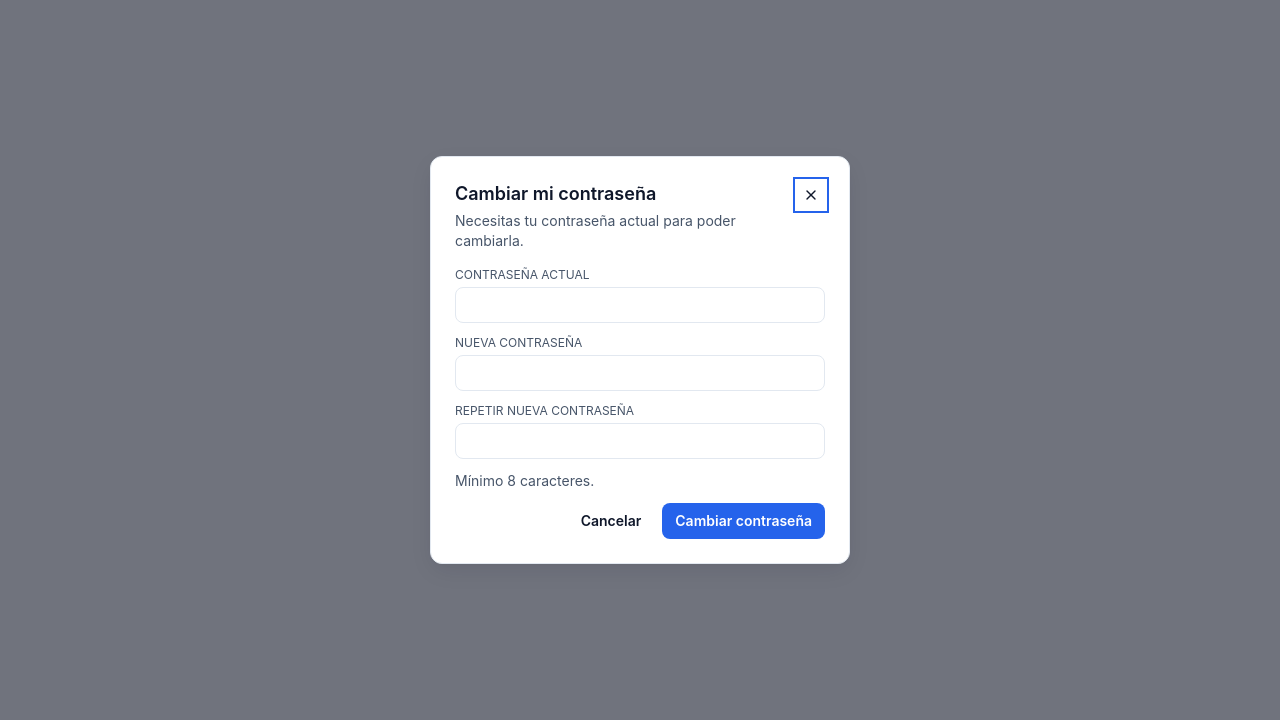
seguridad · validación de la contraseña nueva › la longitud se comprueba ANTES que la coincidencia
In the password field labelled "Contraseña actual": {"x": 640, "y": 305} [455,287,825,323], type "clave-actual-1"
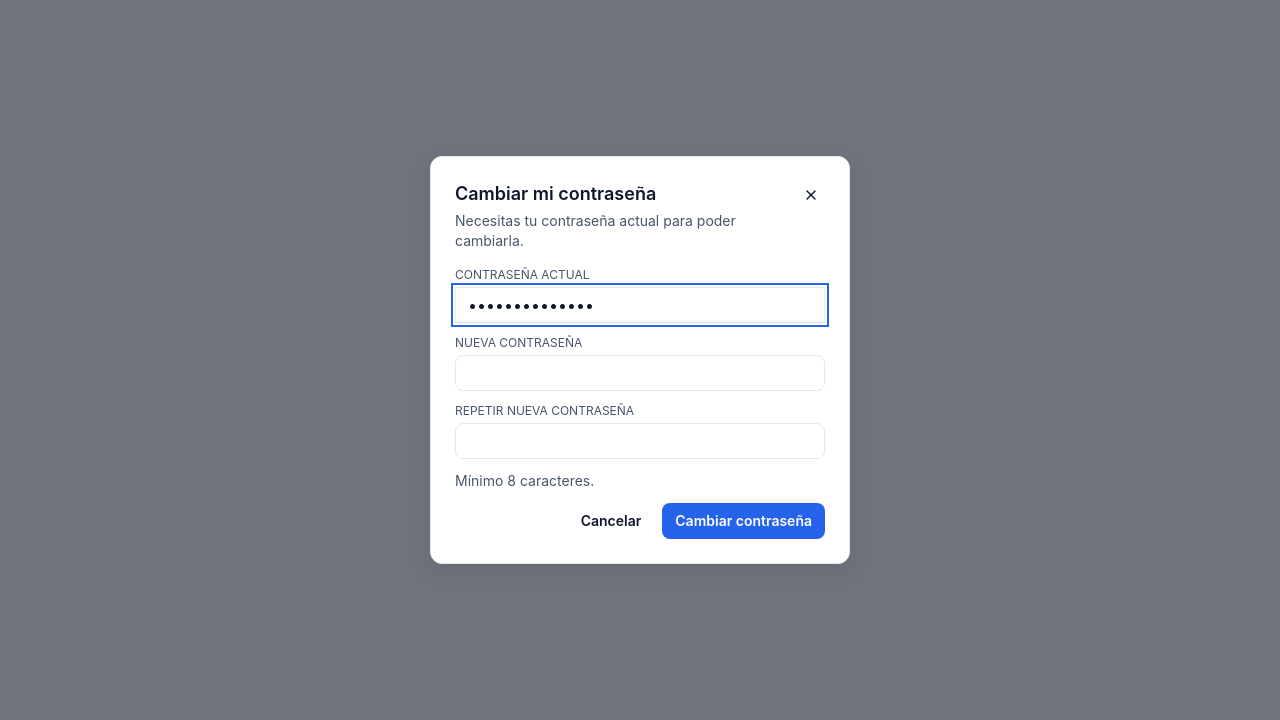
In the password field labelled "Nueva contraseña": {"x": 640, "y": 373} [455,355,825,391], type "corta"
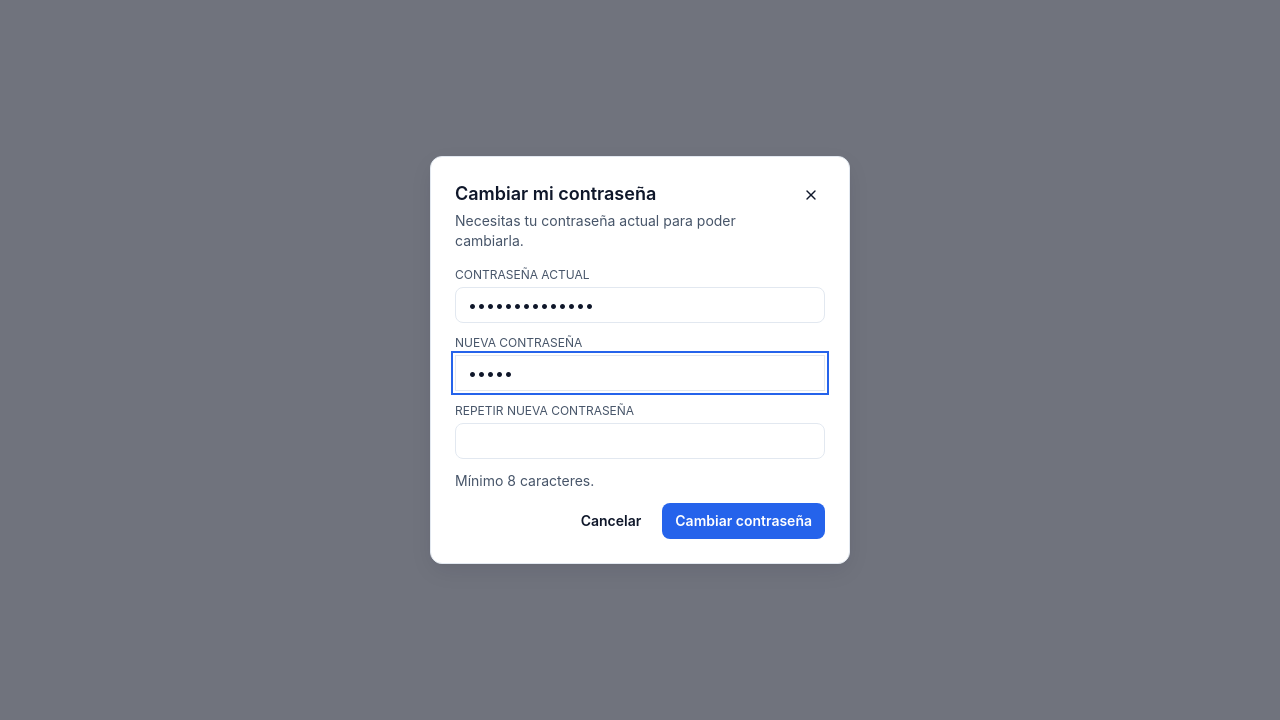
In the password field labelled "Repetir nueva contraseña": {"x": 640, "y": 441} [455,423,825,459], type "otra"
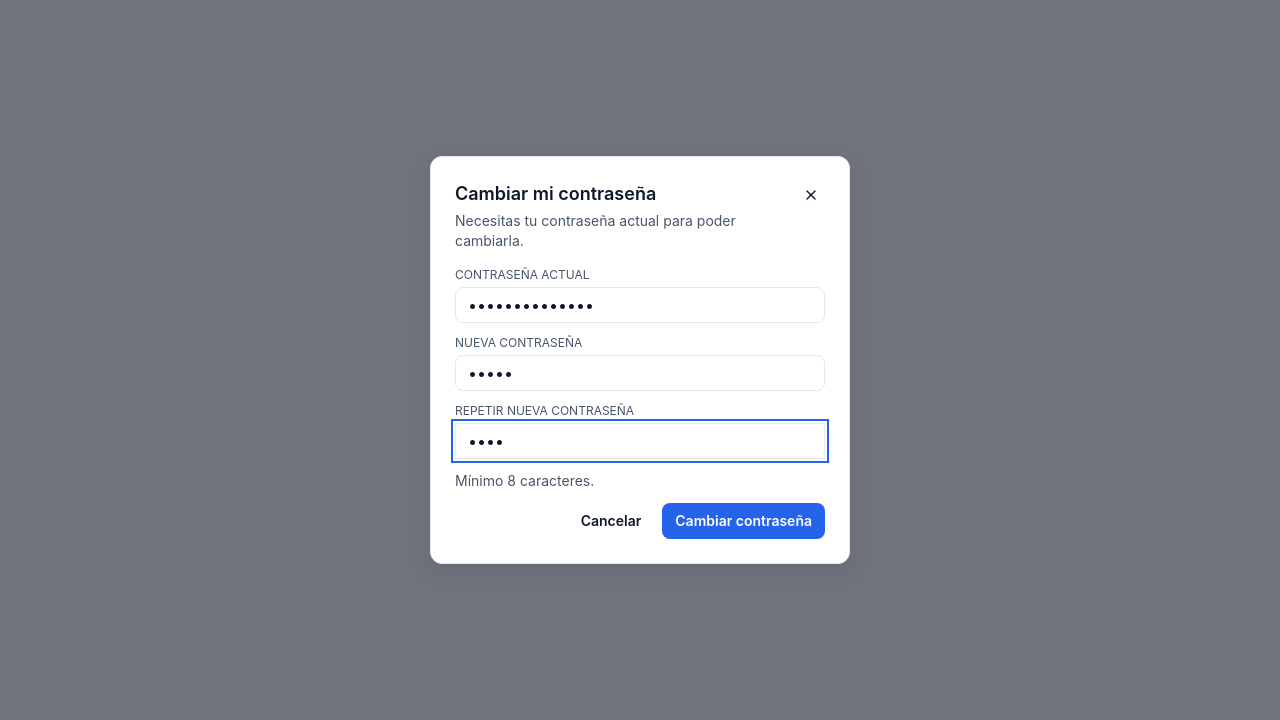
Click the button "Cambiar contraseña": {"x": 744, "y": 521} [662,503,825,539]
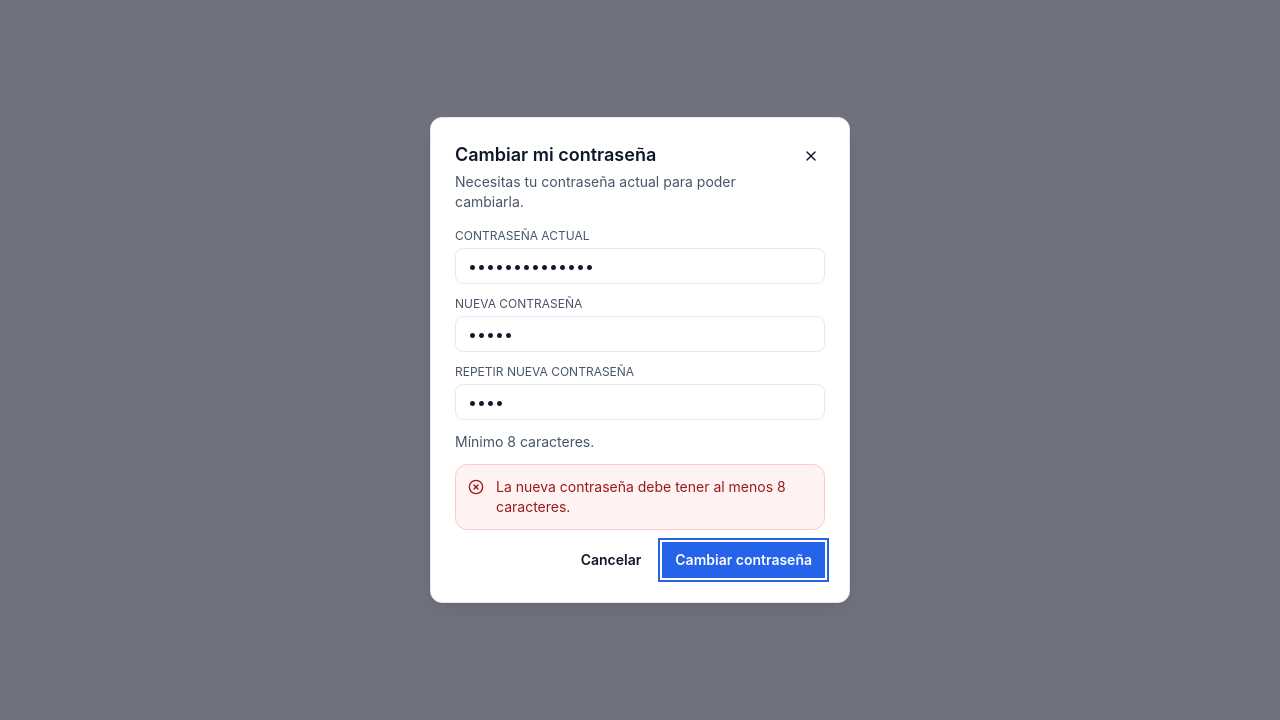
Expected: the message shows "8 caracteres", [496,478,786,515]
